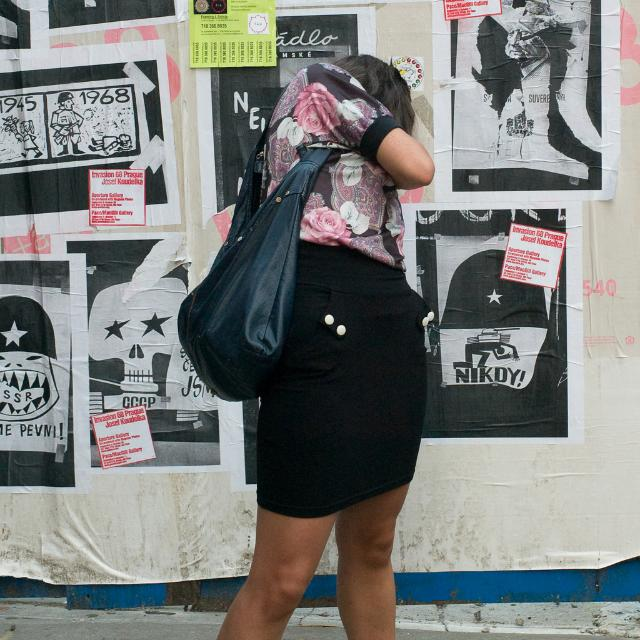Flower: (296, 82, 342, 136), (302, 208, 344, 250)
